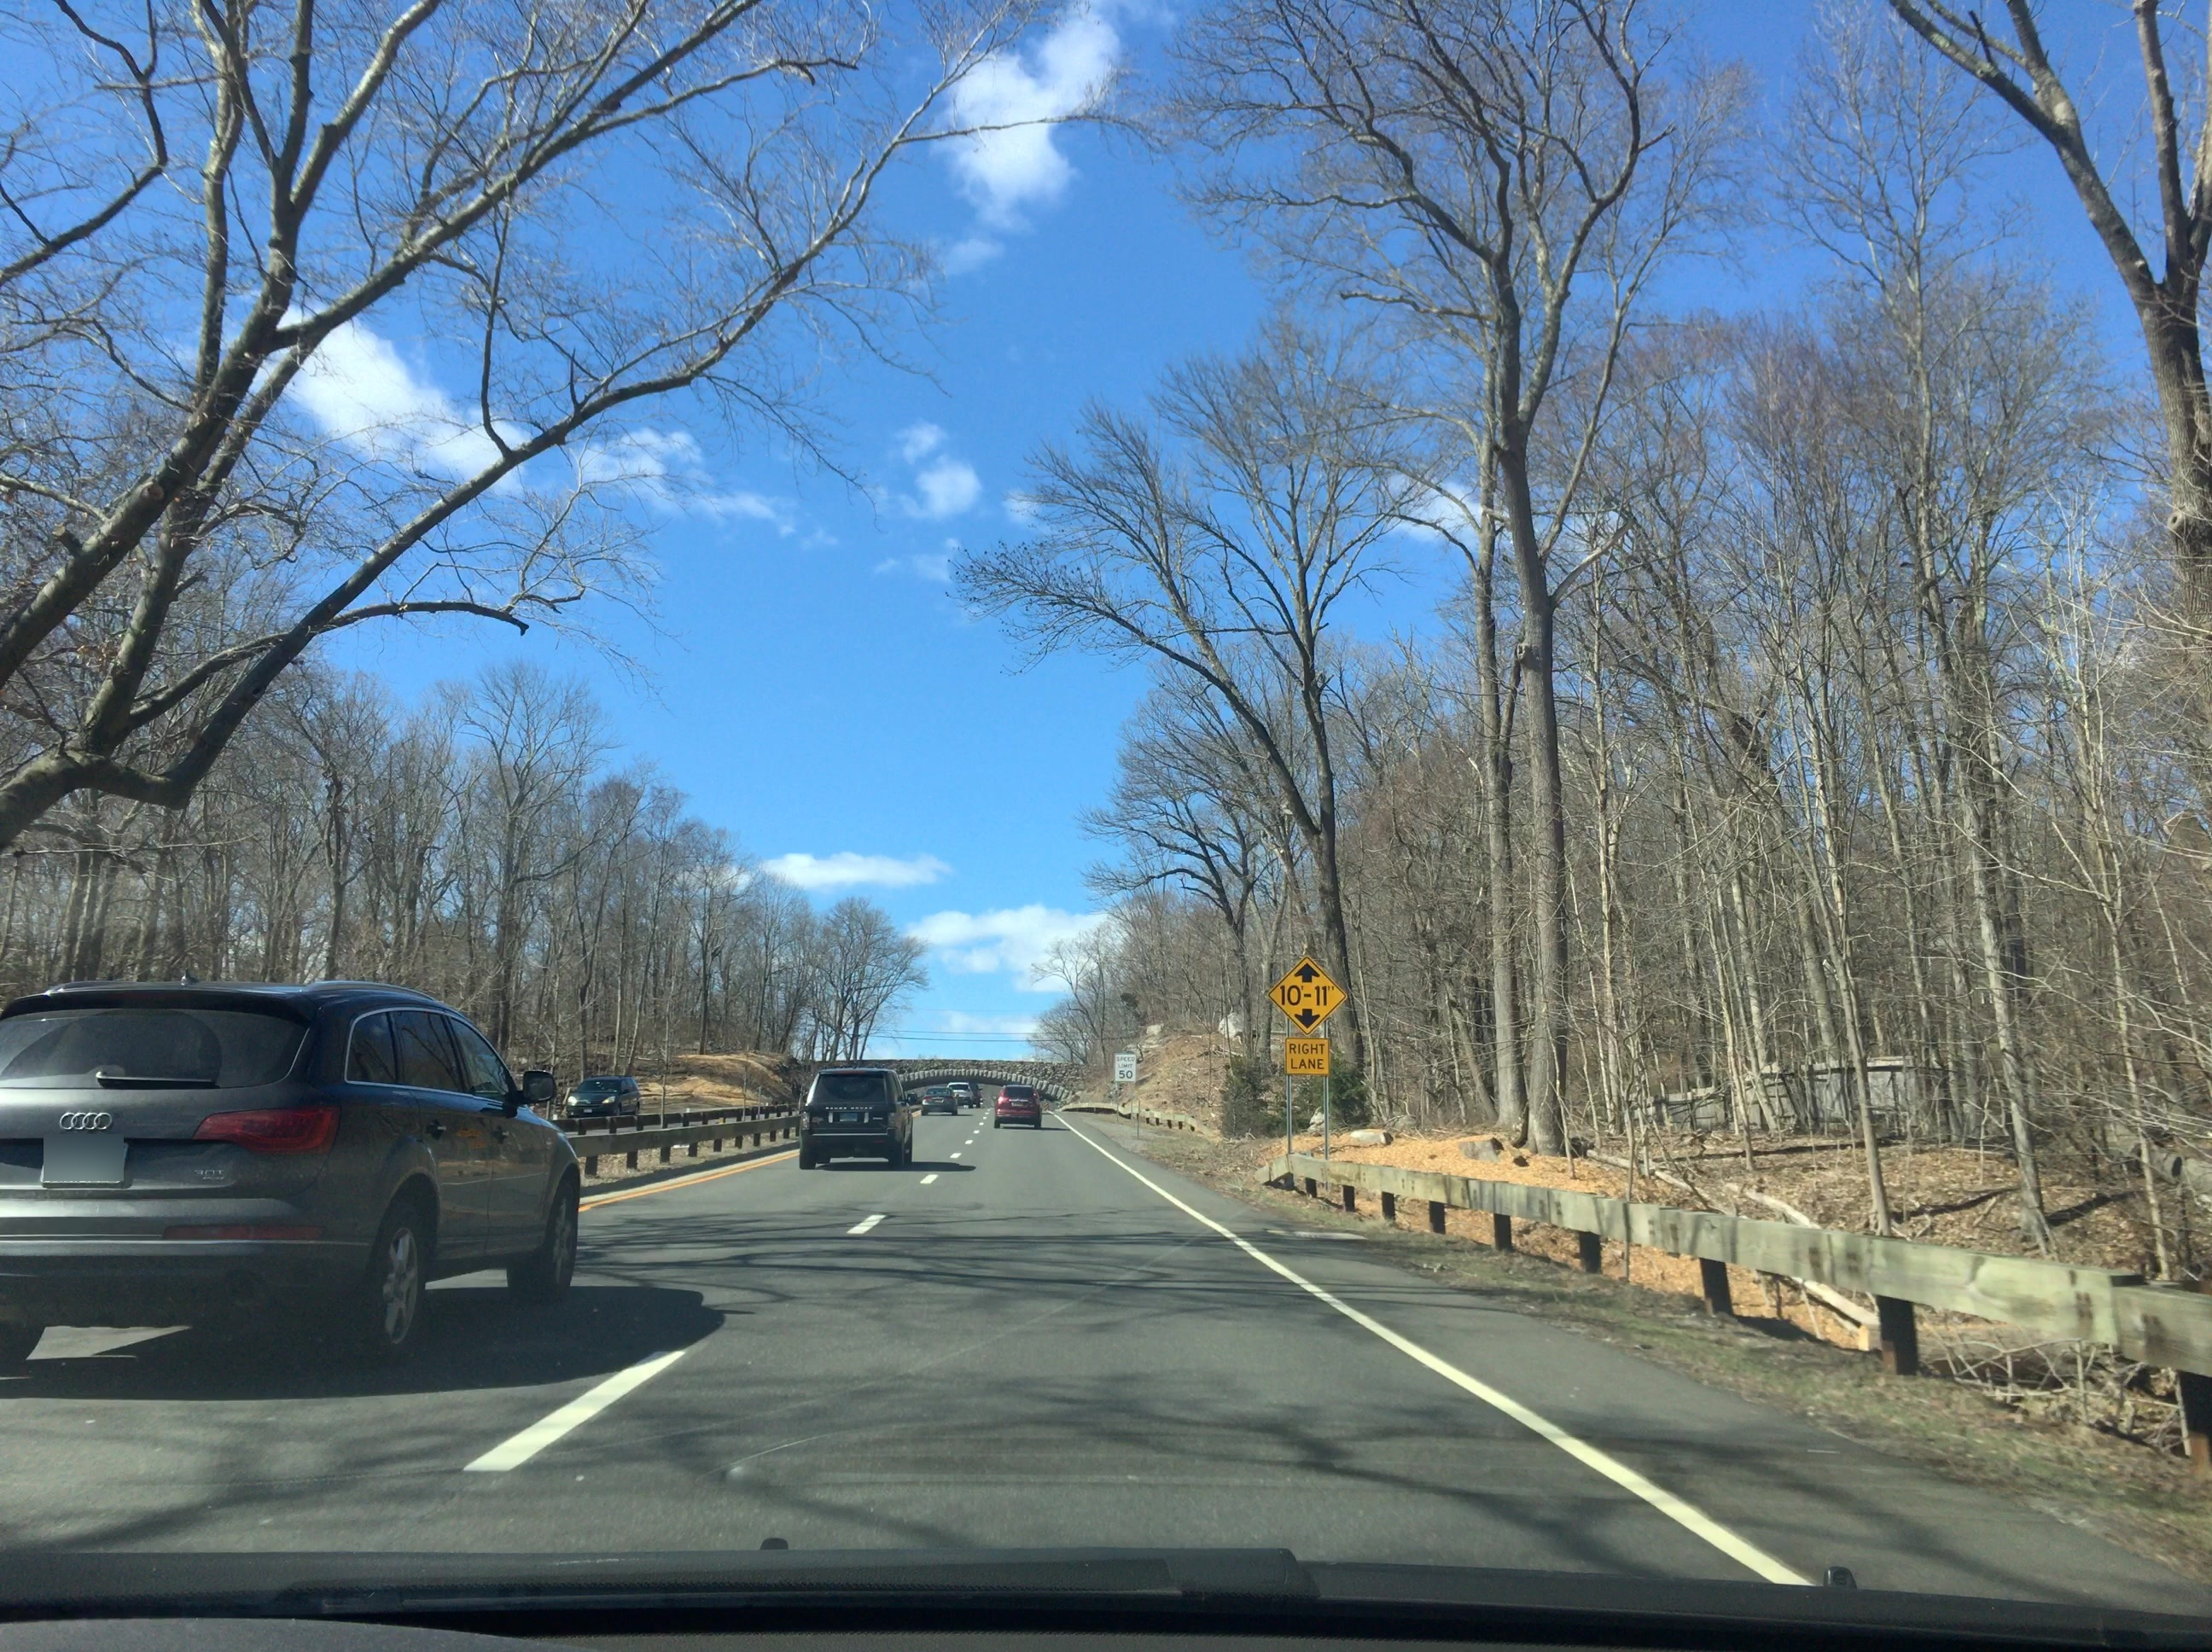low-clearance-sign: (1266, 954, 1348, 1036)
